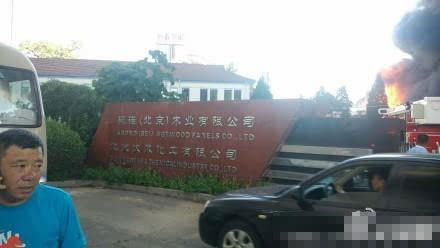fire: (374, 66, 401, 108)
smoke: (402, 9, 440, 87)
